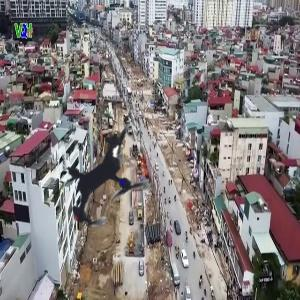drone: (25, 99, 189, 263)
